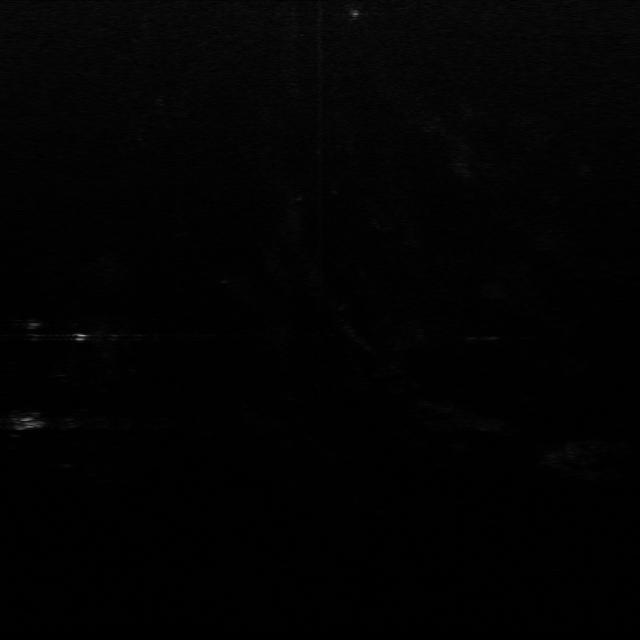rov: (14, 414, 47, 434)
